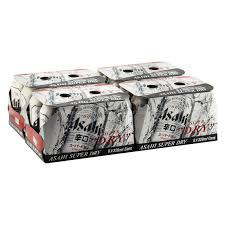beer: (6, 60, 219, 164)
